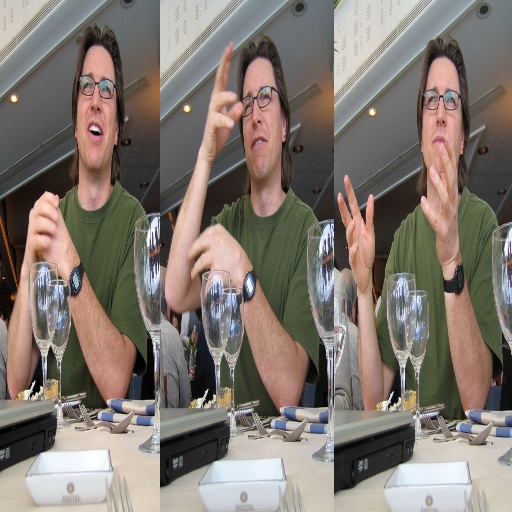hand: (418, 131, 461, 269), (336, 169, 376, 293), (203, 39, 242, 161), (186, 217, 245, 293), (22, 188, 59, 278), (35, 201, 75, 278)
